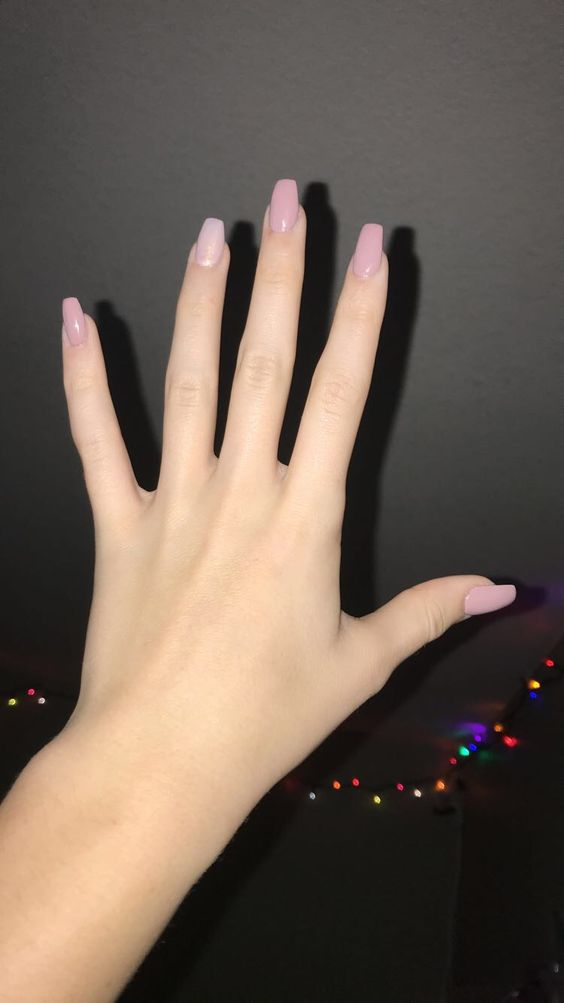nails: (340, 217, 401, 295), (253, 172, 313, 244), (180, 210, 239, 282), (449, 565, 525, 620), (52, 288, 104, 357)
